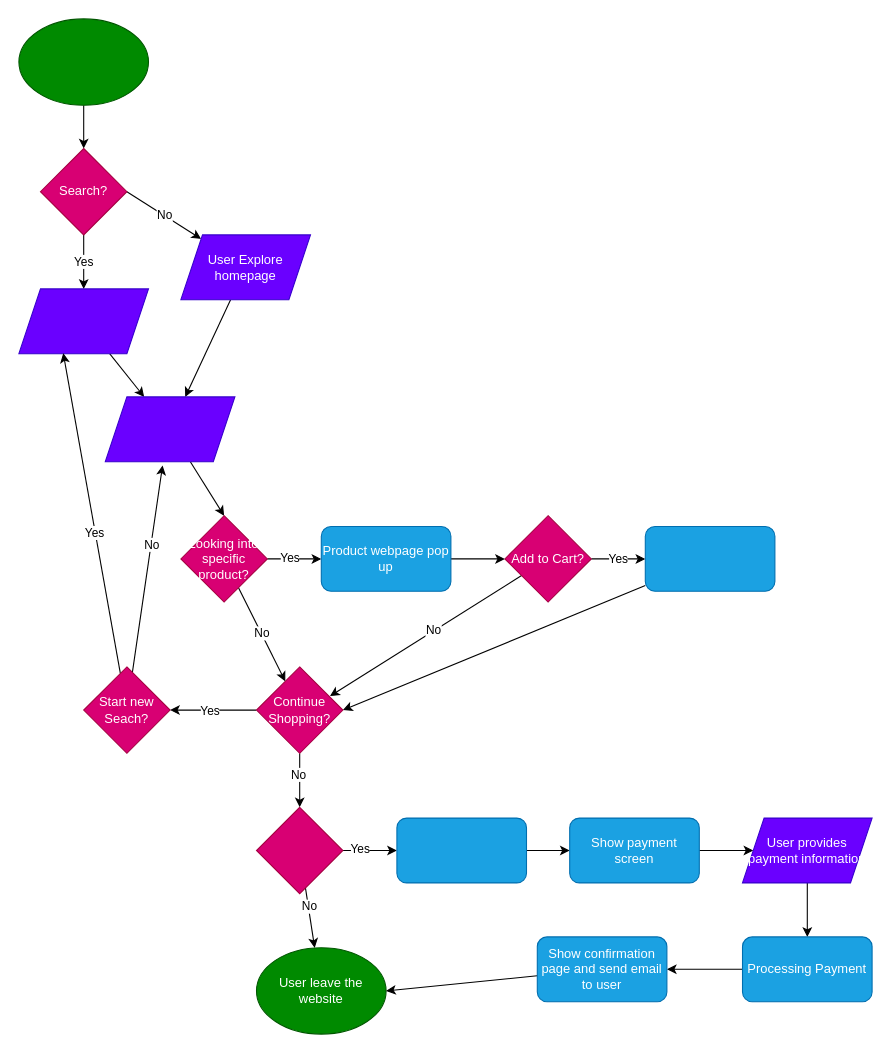
Image size: 891x1053. Some labels were removed from this diagram. The centre of each missing label's shape, as x and y in pixels:
Checkout?: (299,850)
Send confirmation to user: (709,558)
Show view cart screen: (461,850)
User enter webpage: (83,61)
User looking over Products: (169,429)
User provide Data: (83,321)
